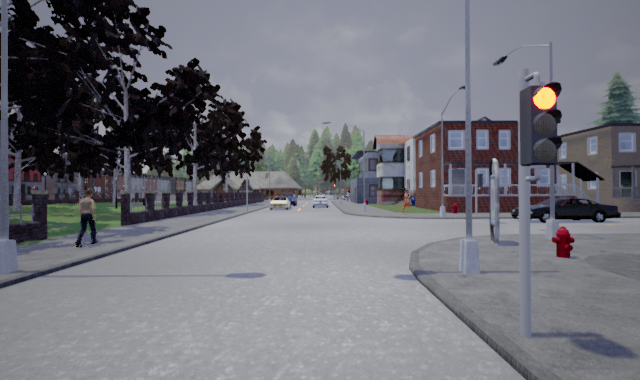pedestrian: (73, 188, 98, 248), (399, 188, 410, 214)
vehicle: (508, 197, 621, 224), (269, 197, 291, 211), (313, 194, 330, 209)
